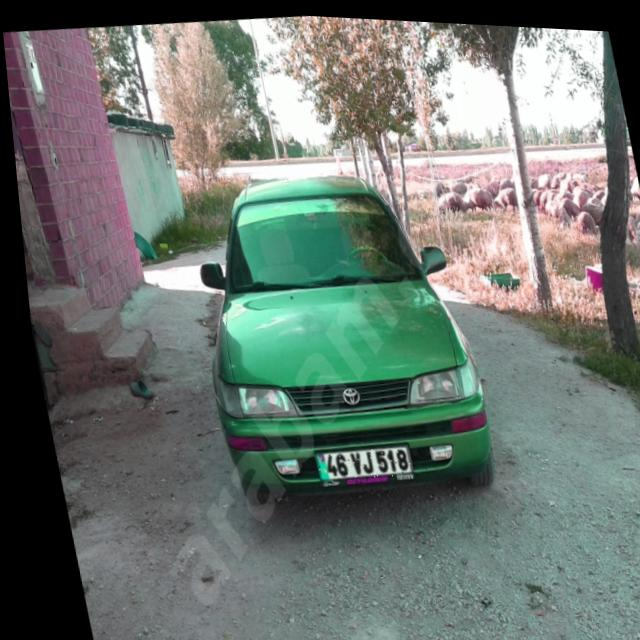license_plate: (304, 437, 405, 482)
